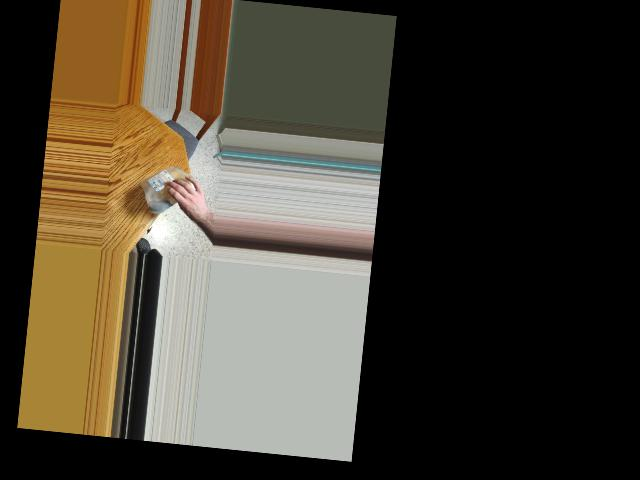cheese: (137, 159, 200, 211)
